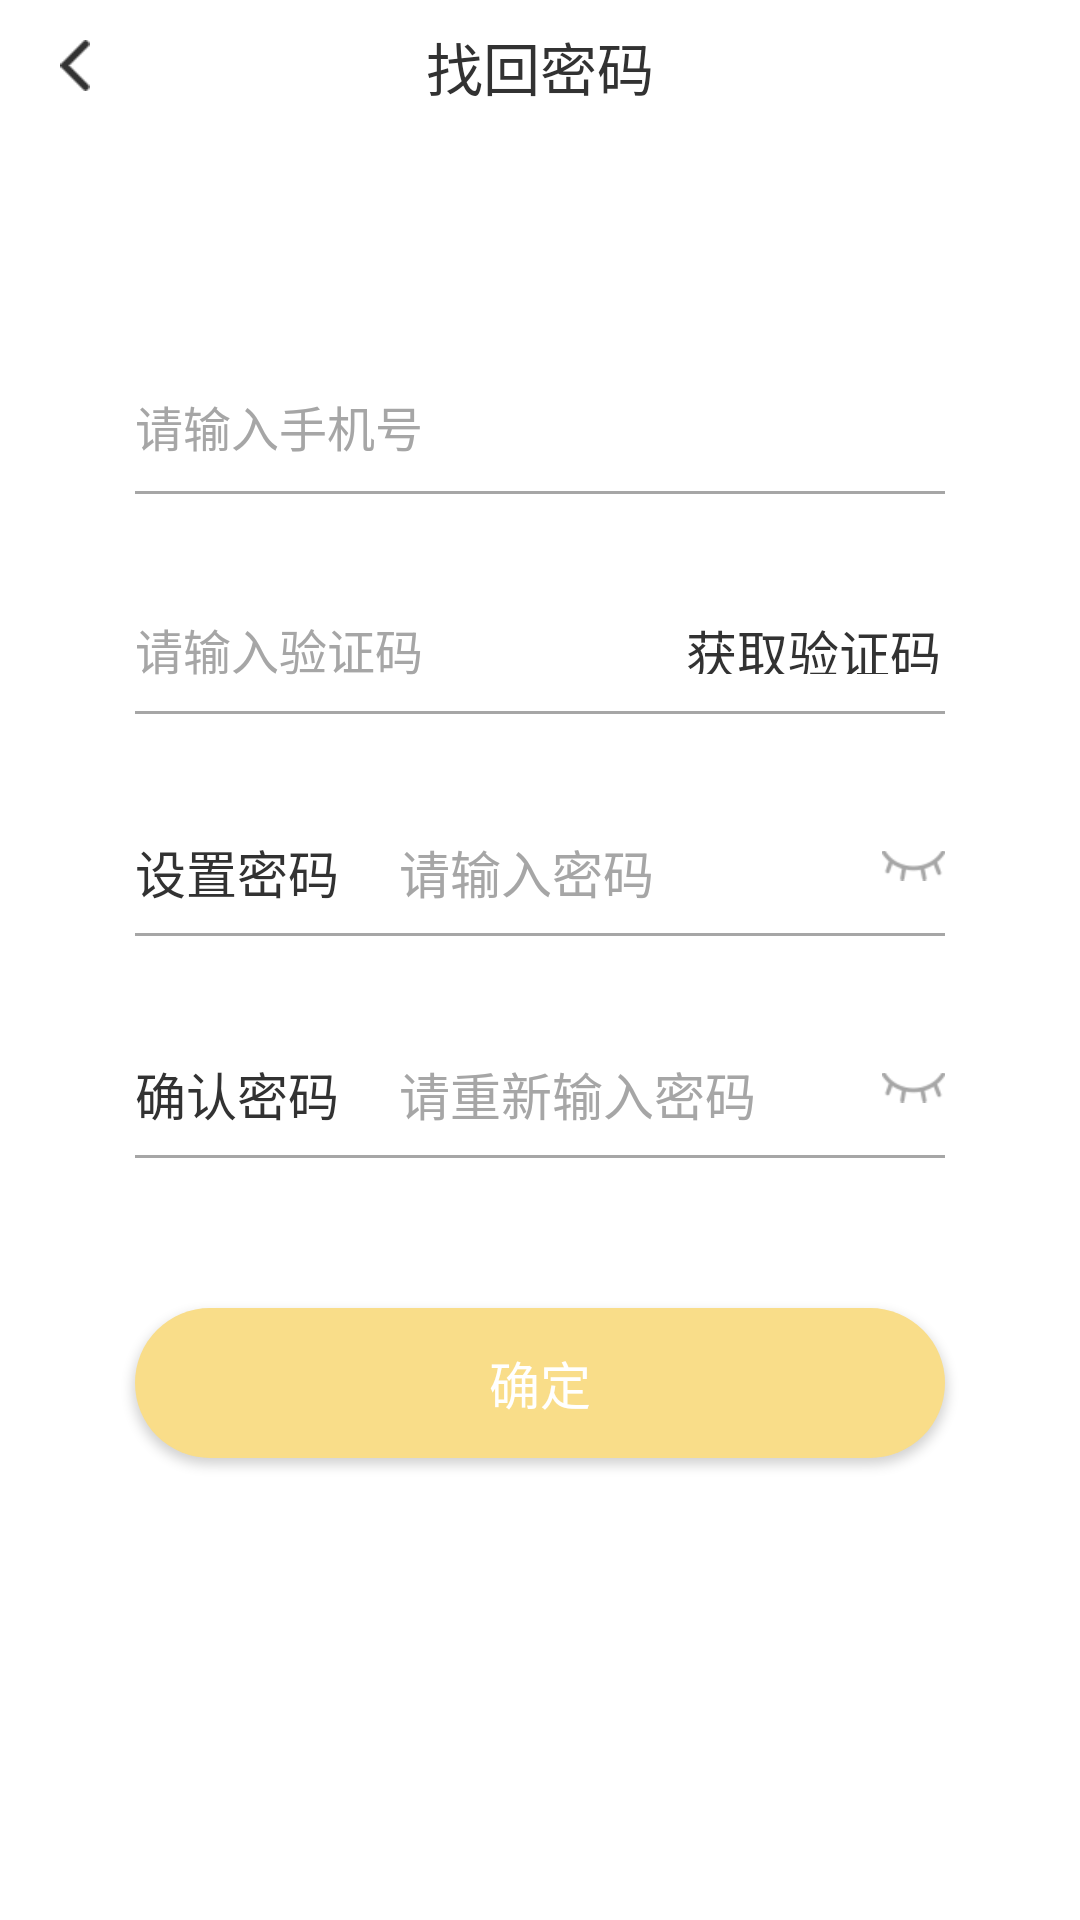

Icons on this 1080*1920 Android screen, each with its box as (x1, y1, x2, y2):
pwd hide: (882, 851, 945, 881), (882, 1073, 945, 1103)
return: (60, 40, 90, 91)
